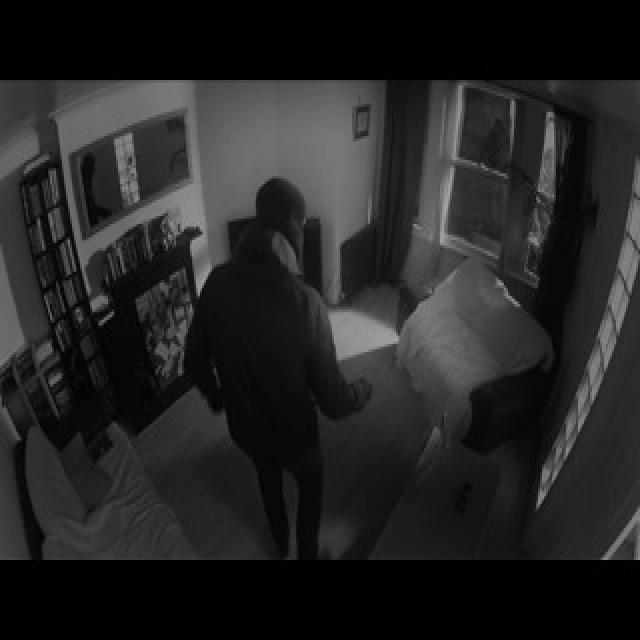thief: (229, 180, 352, 446)
